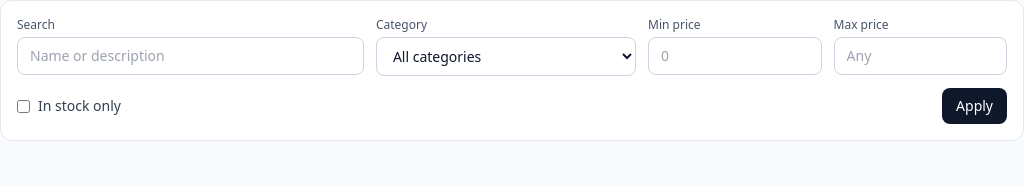
FilterBar › refuses a minimum above the maximum and says why
The width and height of the screenshot is (1024, 186).
Type "50" into the number field with placeholder "0" at (735, 56), box left=648, top=37, right=822, bottom=75
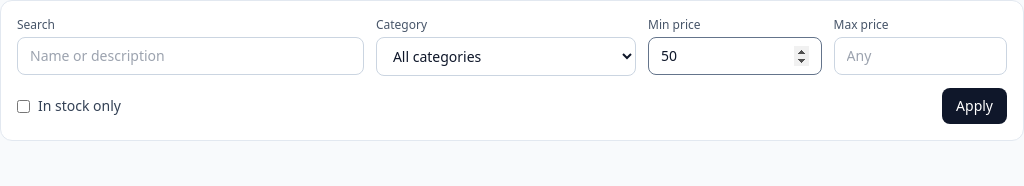
Type "10" into the number field with placeholder "Any" at (920, 56), box left=834, top=37, right=1007, bottom=75
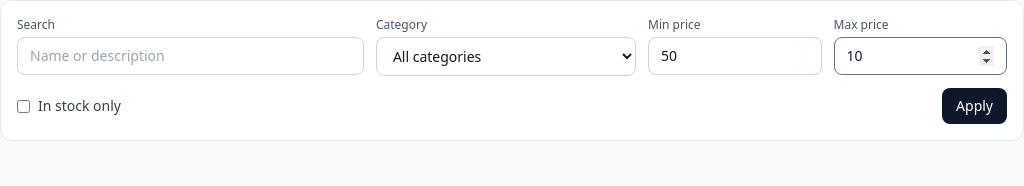
Click the button "Apply" at (975, 106), box left=942, top=88, right=1007, bottom=124
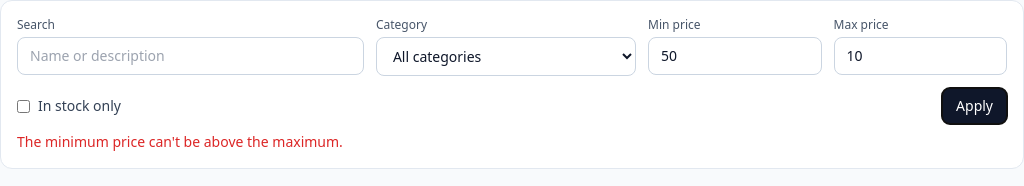
Result: the message shows "minimum price can't be above" at left=17, top=132, right=343, bottom=151
